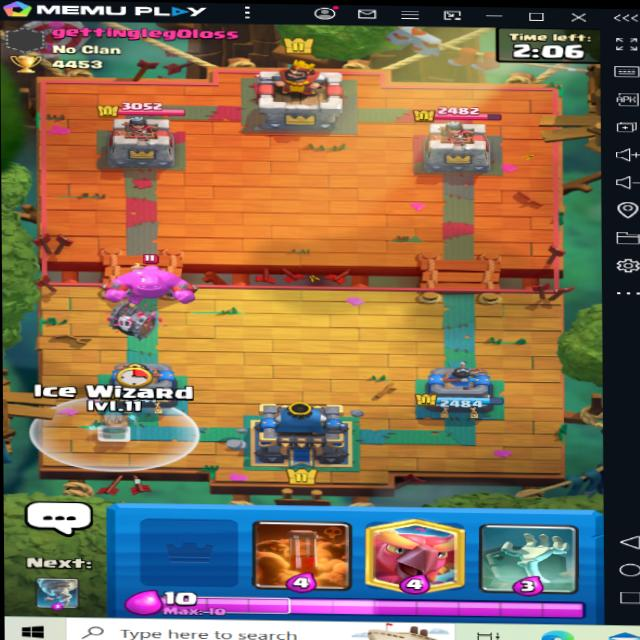electro-golem: (92, 252, 203, 303)
firecracker: (123, 252, 164, 275)
skeleton-barrel: (97, 295, 172, 345)
